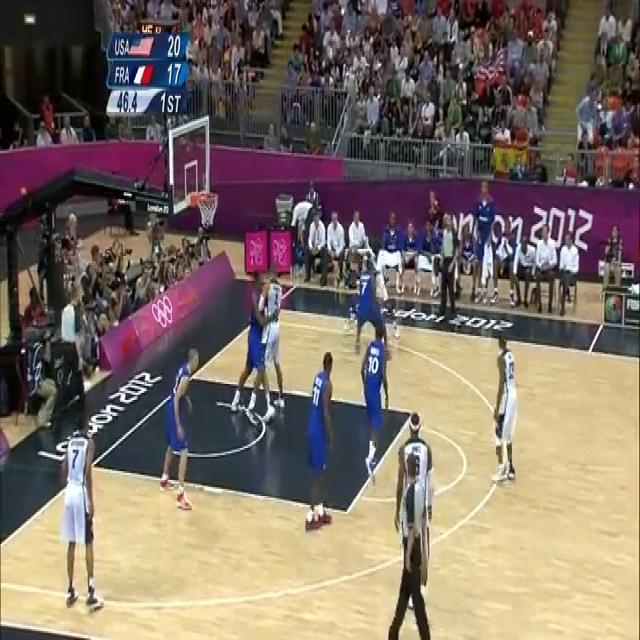hoop: (196, 193, 218, 225)
person: (388, 415, 442, 640), (162, 346, 202, 509), (308, 348, 338, 526), (359, 318, 388, 475), (492, 333, 518, 487), (559, 232, 581, 307), (348, 207, 369, 248)
